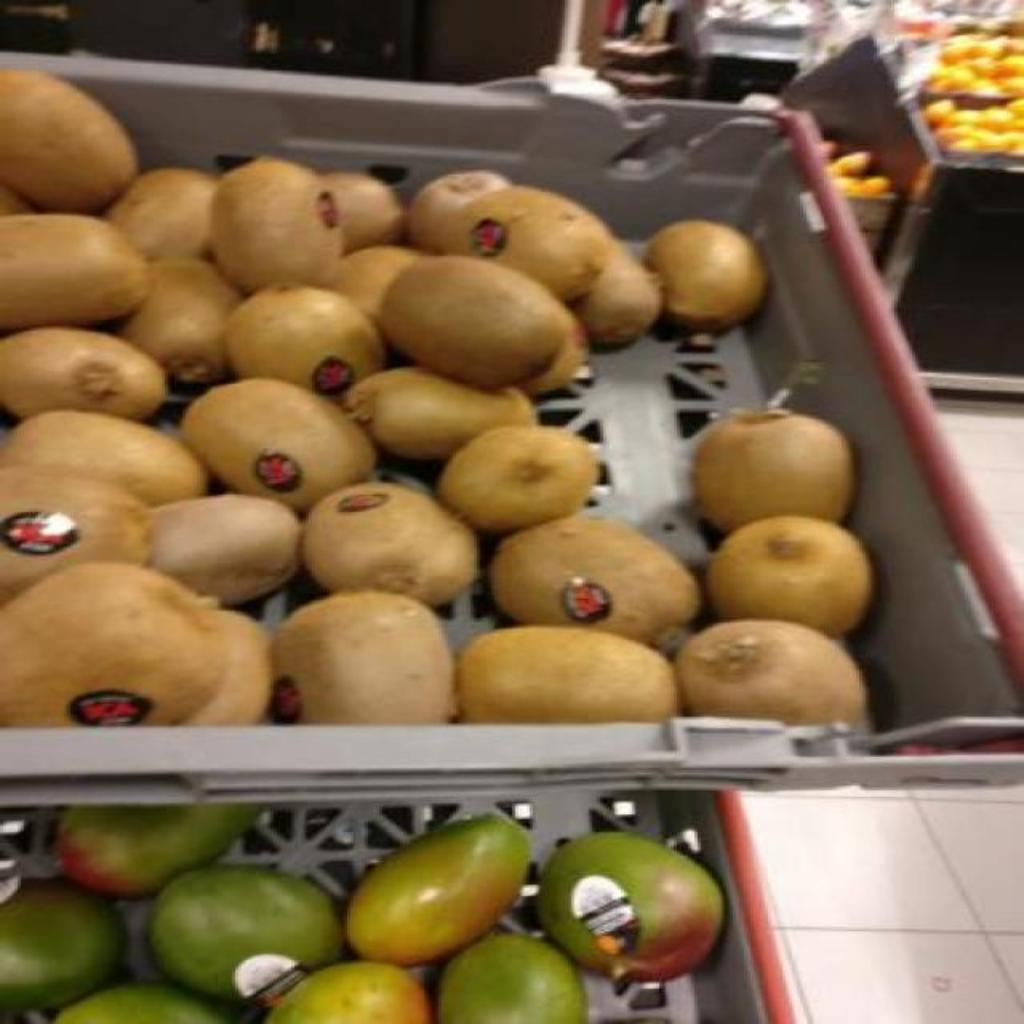kiwi: (3, 564, 221, 726), (493, 520, 696, 646), (381, 256, 573, 388), (187, 380, 376, 512), (275, 592, 456, 724), (304, 482, 475, 604), (459, 628, 677, 722), (1, 468, 149, 602), (0, 70, 136, 214), (3, 412, 208, 506), (707, 520, 872, 636), (696, 410, 853, 530), (680, 622, 864, 722), (211, 158, 344, 292), (344, 368, 536, 460), (440, 426, 597, 532), (469, 186, 613, 300), (152, 494, 301, 604), (227, 288, 381, 394), (4, 216, 147, 330), (120, 260, 240, 382), (645, 220, 768, 332), (107, 168, 219, 260), (187, 611, 272, 724), (408, 170, 512, 254), (576, 247, 661, 346), (331, 246, 424, 318), (517, 311, 589, 396), (327, 174, 396, 249)
